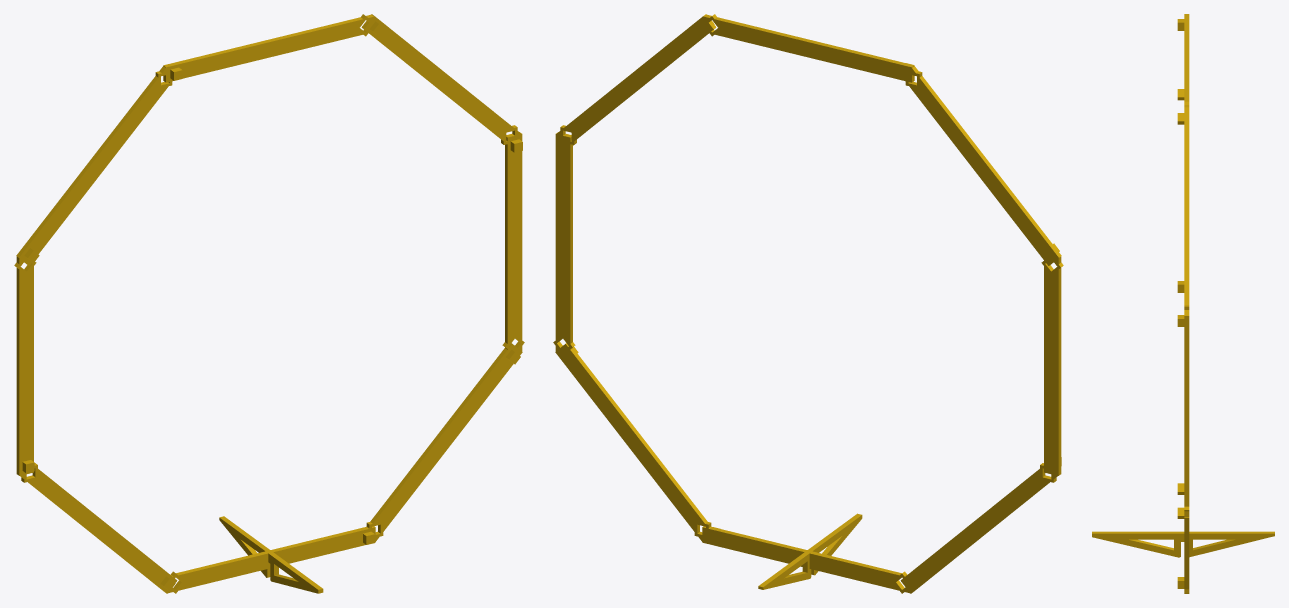
The model's file is race-gate.glb.
The picture shows the model from 3 angles, left to right: view 1: azimuth 30°, elevation 25°; view 2: azimuth 150°, elevation 25°; view 3: azimuth 270°, elevation 25°; orthographic projection. The views are drawn at different scales.
Visible parts, largest first — view 1: race-gate.001; view 2: race-gate.001; view 3: race-gate.001.
Boxes of the visible parts, x1=… form: race-gate.001: x1=14, y1=14, x2=524, y2=593; race-gate.001: x1=553, y1=14, x2=1063, y2=593; race-gate.001: x1=1092, y1=14, x2=1274, y2=593.
Bounding box in the file's own units: 414 × 421 × 140.
